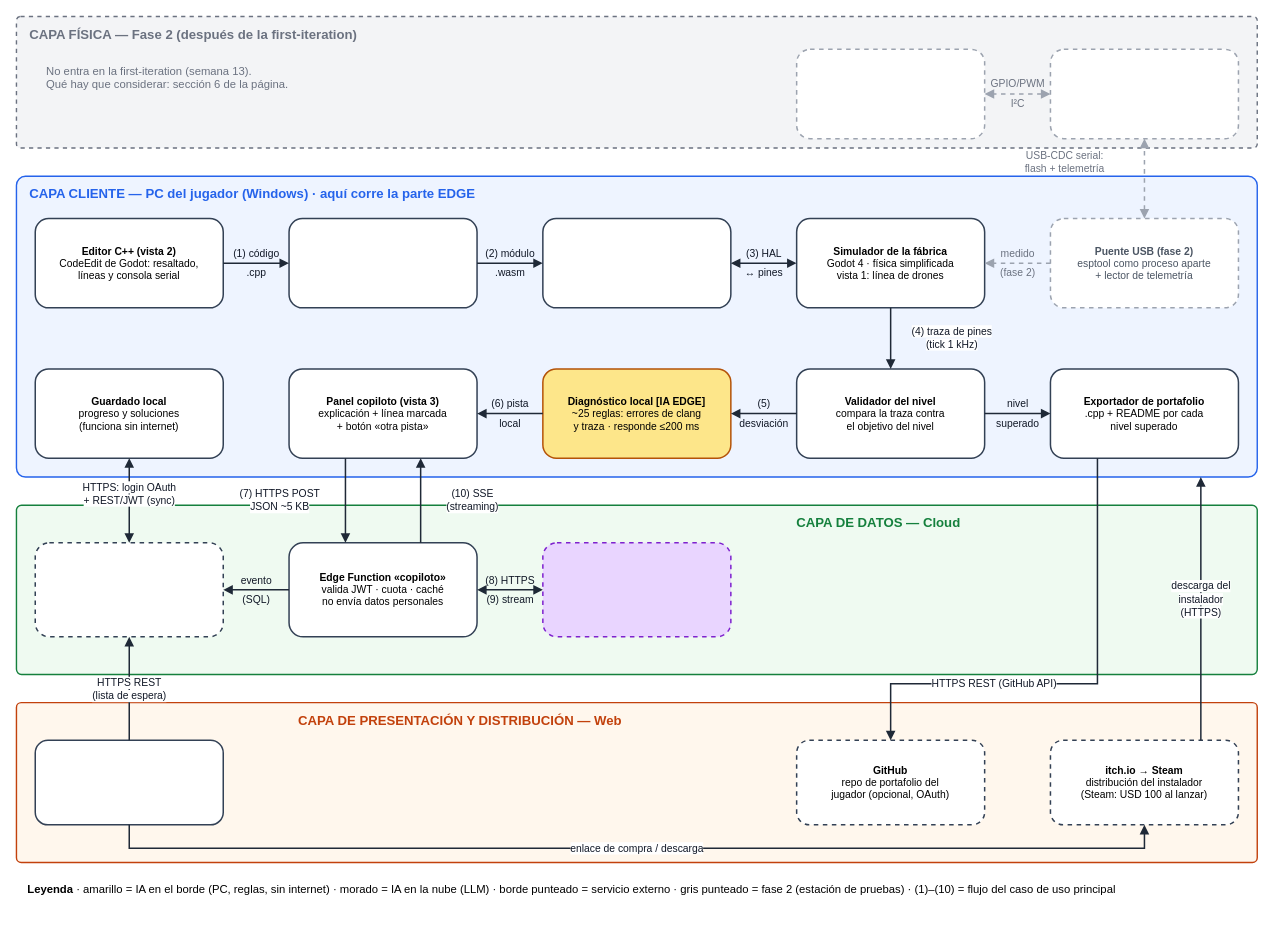
Some shapes in this 1275 by 931 pixel diagram are drawn without their labels. Here are the shapes that lost their labels. From the top down, the centre of each, then its label:
At (x=890, y=93): "Sensores y actuadores N20 + encoder · servo SG90 MPU-6050 · INA219 · OLED".
At (x=1144, y=93): "ESP32-S3 (estación) corre el mismo C++ del jugador (core Arduino-ESP32)".
At (x=382, y=262): "Compilador local clang (wasi-sdk) → .wasm incluido en el instalador".
At (x=636, y=262): "MCU virtual runtime WAMR + HAL «gpio.h» (API igual a Arduino-ESP32)".
At (x=129, y=589): "Supabase Auth (correo o GitHub) Postgres: progreso, eventos y lista de espera".
At (x=636, y=589): "Claude API [IA CLOUD] Claude Haiku 4.5 (default) explica el error en español".
At (x=129, y=782): "Página de venta GitHub Pages (estática) video · demo · lista espera".
